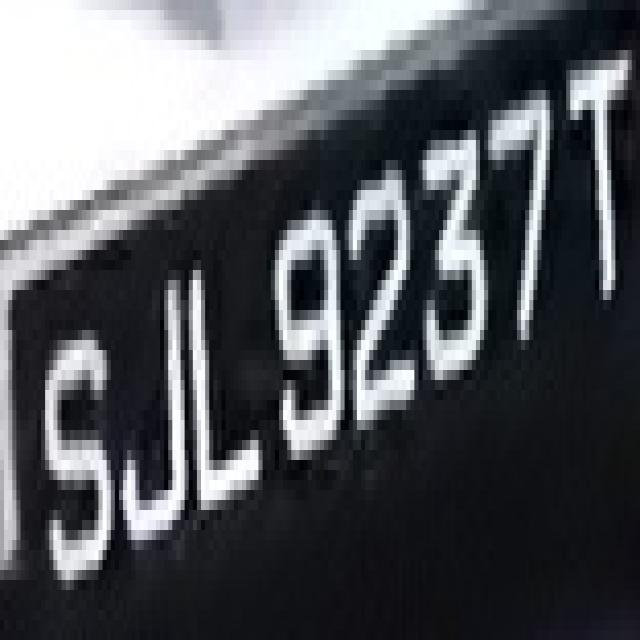2: (340, 160, 431, 470)
3: (406, 70, 488, 410)
7: (472, 80, 554, 370)
9: (262, 210, 357, 500)
J: (111, 250, 193, 560)
L: (184, 270, 258, 530)
S: (37, 270, 119, 580)
T: (554, 60, 632, 340)
